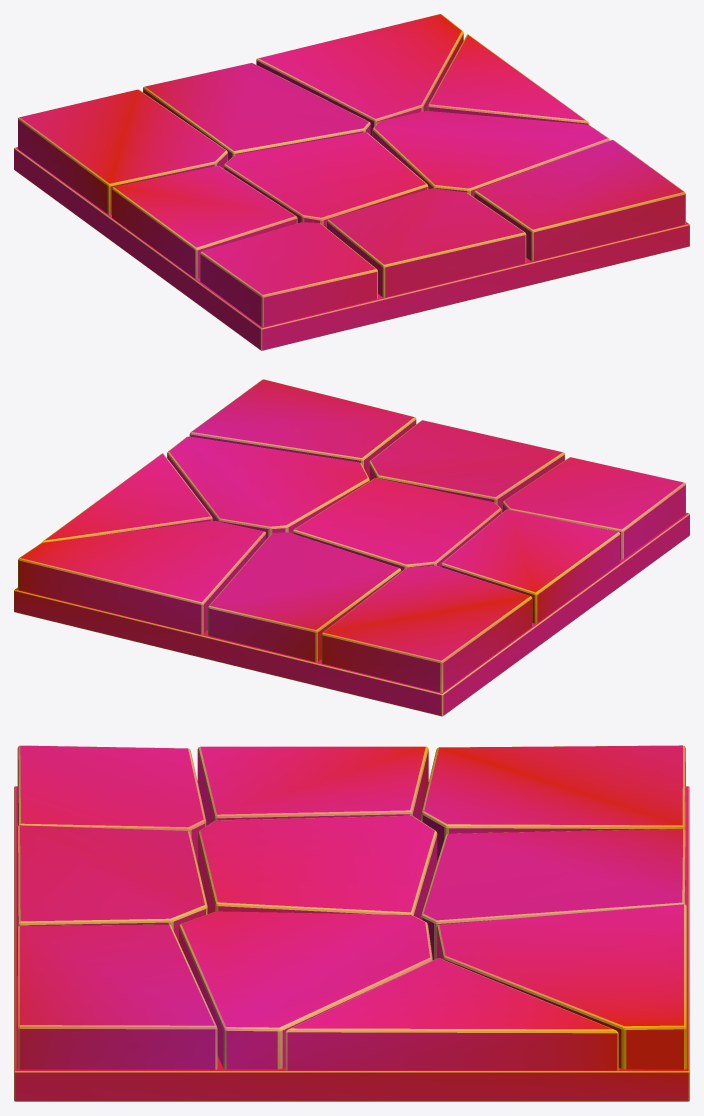
The model's file is SM_StoneTile.fbx.
3 renders of one model, top to bottom at view 1: azimuth 30°, elevation 25°; view 2: azimuth 150°, elevation 25°; view 3: azimuth 270°, elevation 25°, orthographic. The views are drawn at different scales.
Visible parts, largest first — view 1: SM_StoneTile; view 2: SM_StoneTile; view 3: SM_StoneTile.
Part boxes in pixels (bbox=[...]): SM_StoneTile: bbox=[14, 14, 689, 350]; SM_StoneTile: bbox=[14, 379, 689, 716]; SM_StoneTile: bbox=[14, 745, 689, 1101].
Size of what is drawn, in the model's own units: 200 by 200 by 24.28.
